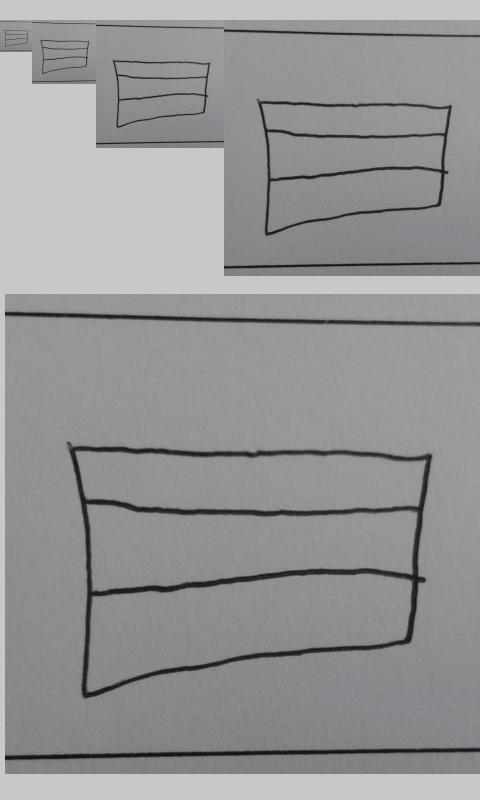list_view: (69, 440, 437, 700), (257, 99, 453, 238), (111, 58, 211, 129), (40, 39, 89, 75), (4, 29, 29, 48)
